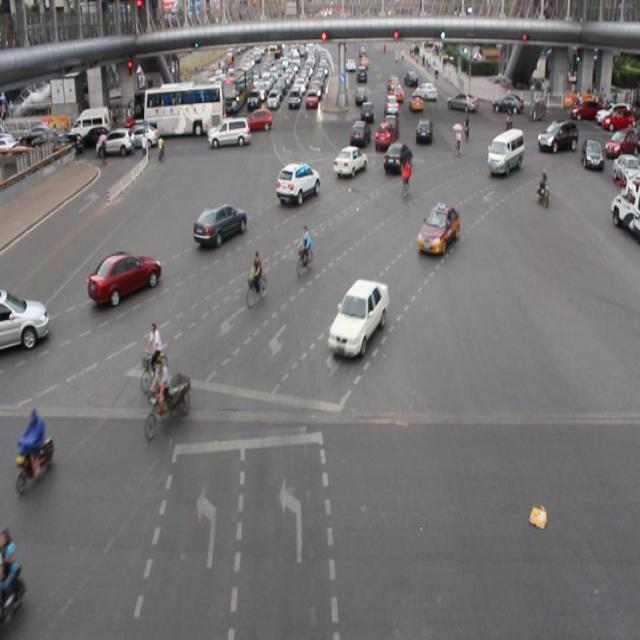car: (326, 276, 388, 356), (87, 246, 164, 306), (192, 202, 247, 248), (414, 200, 460, 255), (276, 159, 322, 207), (536, 116, 577, 157), (333, 144, 366, 178), (382, 140, 412, 175), (348, 118, 371, 147), (374, 121, 394, 148), (414, 118, 433, 144)
truck: (1, 287, 48, 351), (486, 126, 523, 176)
